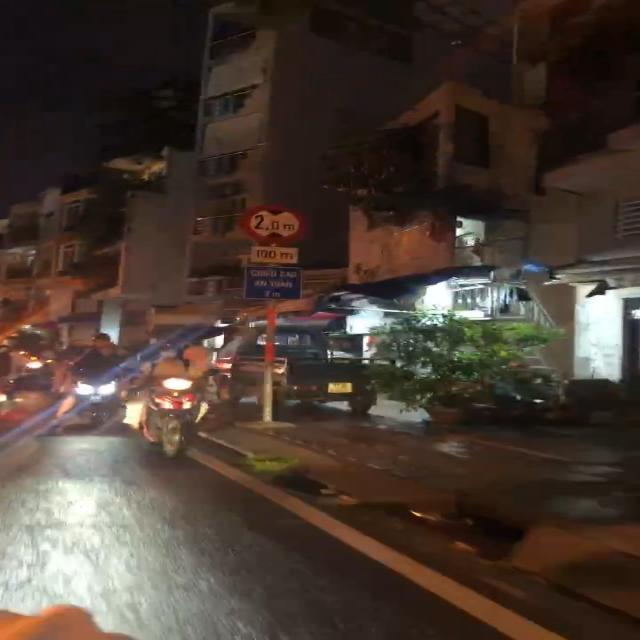Bien bao han che chieu cao: (238, 200, 302, 245)
